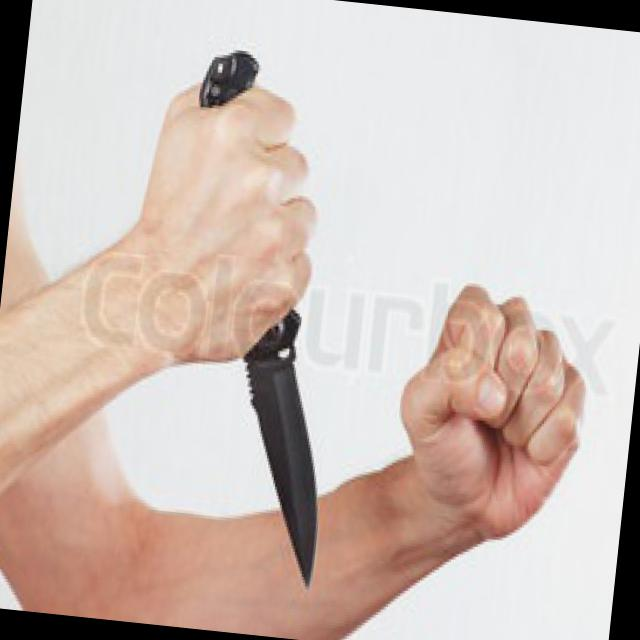knife: (168, 180, 364, 614)
